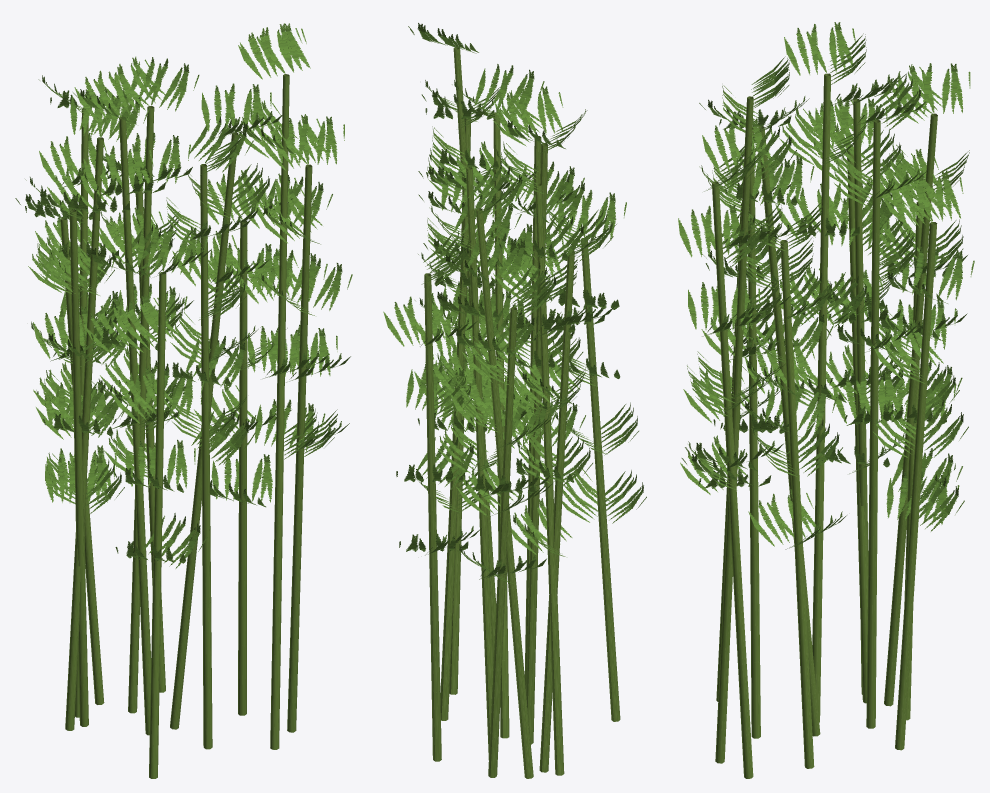
The model's file is flora_bamboo.glb.
The picture shows the model from 3 angles, left to right: view 1: azimuth 30°, elevation 25°; view 2: azimuth 150°, elevation 25°; view 3: azimuth 270°, elevation 25°; orthographic projection. The views are drawn at different scales.
Visible parts, largest first — view 1: flora_bamboo; view 2: flora_bamboo; view 3: flora_bamboo.
Part boxes in pixels (bbox=[...]): flora_bamboo: bbox=[15, 23, 352, 778]; flora_bamboo: bbox=[383, 23, 646, 778]; flora_bamboo: bbox=[678, 22, 974, 778].
Bounding box in the file's own units: 4.29 × 11.01 × 4.14.
Materials: 2 (2 with a texture image).
